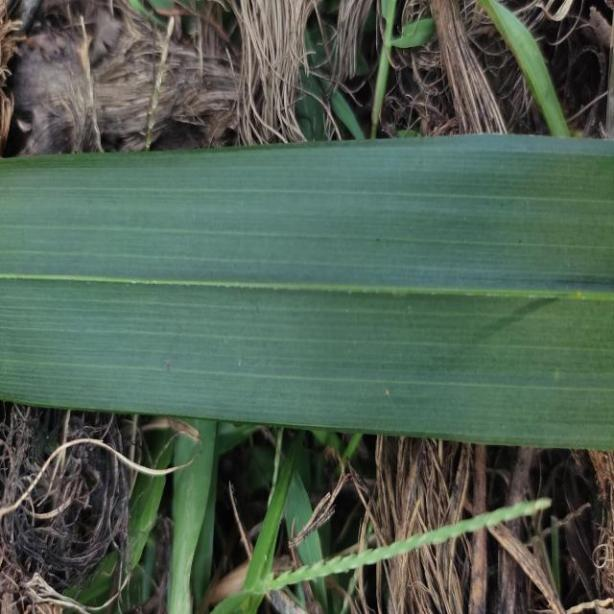Healthy: (0, 134, 614, 450)
